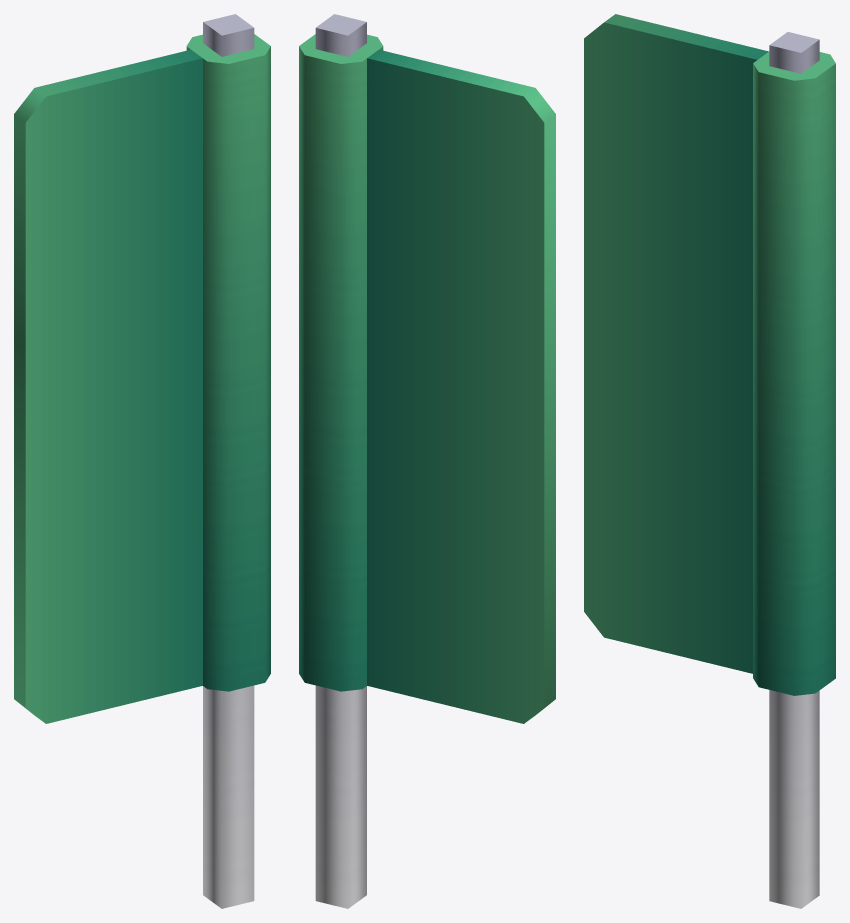
File: flag-large-green.glb
3 renders of one model, left to right at view 1: azimuth 30°, elevation 25°; view 2: azimuth 150°, elevation 25°; view 3: azimuth 330°, elevation 25°, orthographic. The views are drawn at different scales.
Visible parts, largest first — view 1: flag-large-green; view 2: flag-large-green; view 3: flag-large-green.
Part boxes in pixels (x1,y1,x2,y2): flag-large-green: [14, 14, 270, 908]; flag-large-green: [299, 14, 555, 908]; flag-large-green: [584, 14, 835, 908].
Bounding box in the file's own units: 0.2955 × 1.02 × 0.0781.
1 material, 1 textured.
